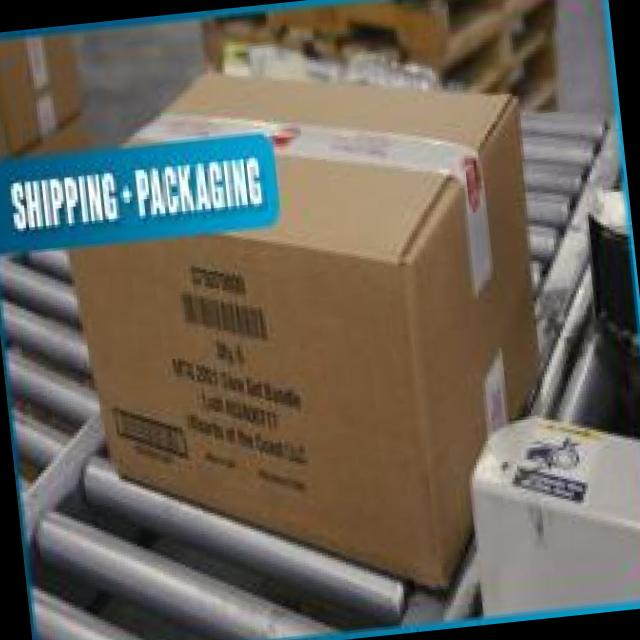box: (64, 71, 544, 594)
